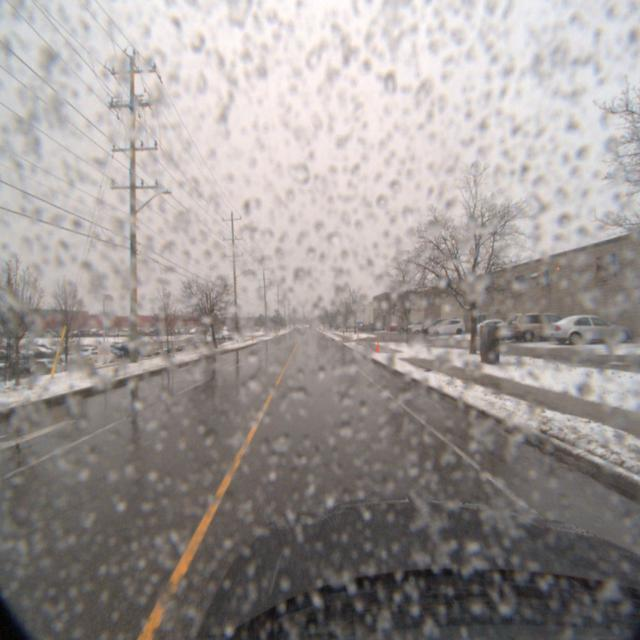Car: (502, 310, 584, 342), (488, 316, 548, 342), (470, 318, 524, 342), (428, 319, 470, 337)
